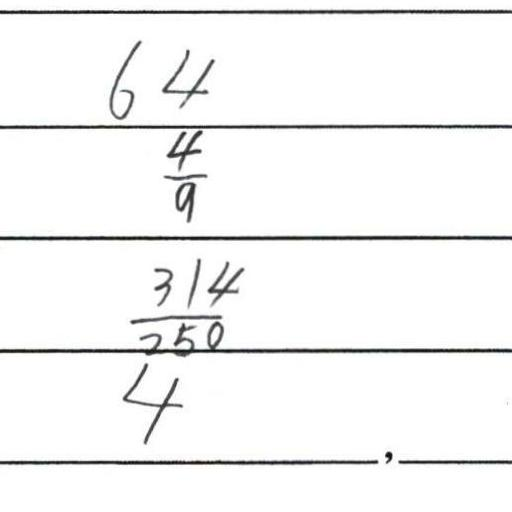ans: (127, 254, 245, 353), (106, 37, 217, 123), (119, 362, 187, 446), (156, 124, 209, 223)
